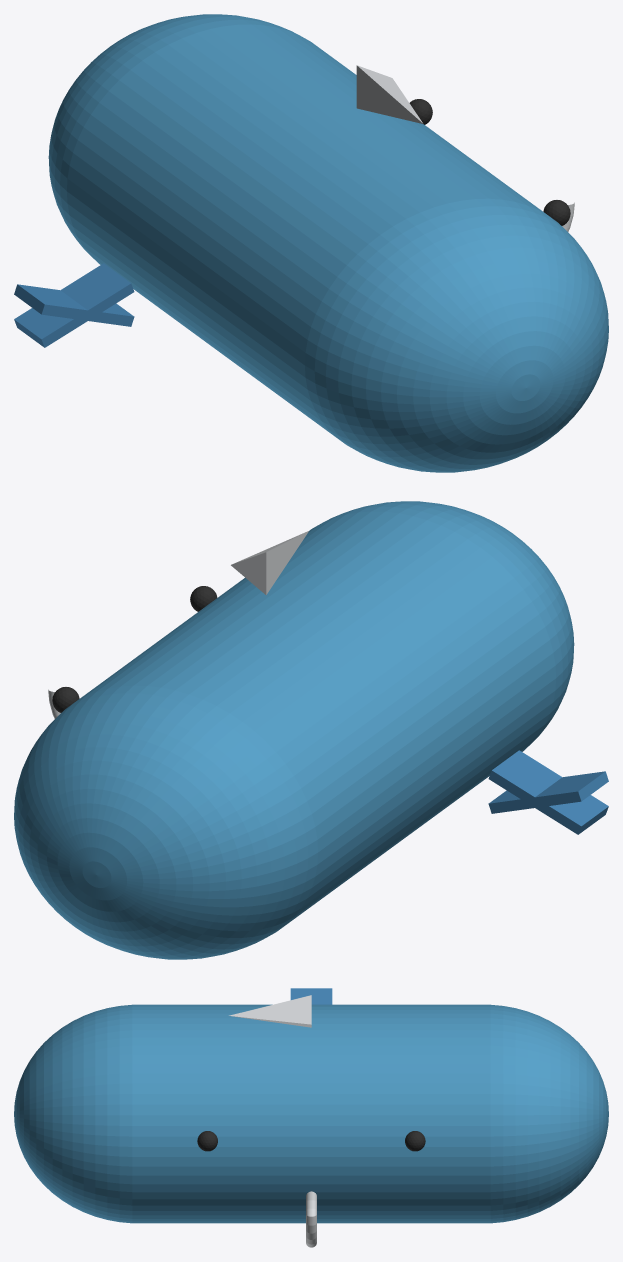
File: whale.glb
The picture shows the model from 3 angles, top to bottom: view 1: azimuth 30°, elevation 25°; view 2: azimuth 150°, elevation 25°; view 3: azimuth 270°, elevation 25°; orthographic projection. The views are drawn at different scales.
Visible parts, largest first — view 1: whale_part_0, whale_part_1, whale_part_2, whale_part_3; view 2: whale_part_0, whale_part_1, whale_part_2, whale_part_3; view 3: whale_part_0, whale_part_3, whale_part_8, whale_part_2.
Part boxes in pixels (box(x1,y1,x2,y2)): whale_part_0: box(48, 14, 608, 472); whale_part_1: box(14, 263, 134, 347); whale_part_2: box(14, 284, 134, 326); whale_part_3: box(356, 65, 423, 123); whale_part_0: box(14, 501, 574, 959); whale_part_1: box(488, 750, 608, 834); whale_part_2: box(488, 771, 608, 813); whale_part_3: box(231, 531, 308, 594); whale_part_0: box(14, 1004, 608, 1223); whale_part_3: box(229, 995, 311, 1027); whale_part_8: box(306, 1191, 316, 1247); whale_part_2: box(290, 988, 332, 1004).
Size of the model in its own units: 6.86 by 3.59 by 8.6.
